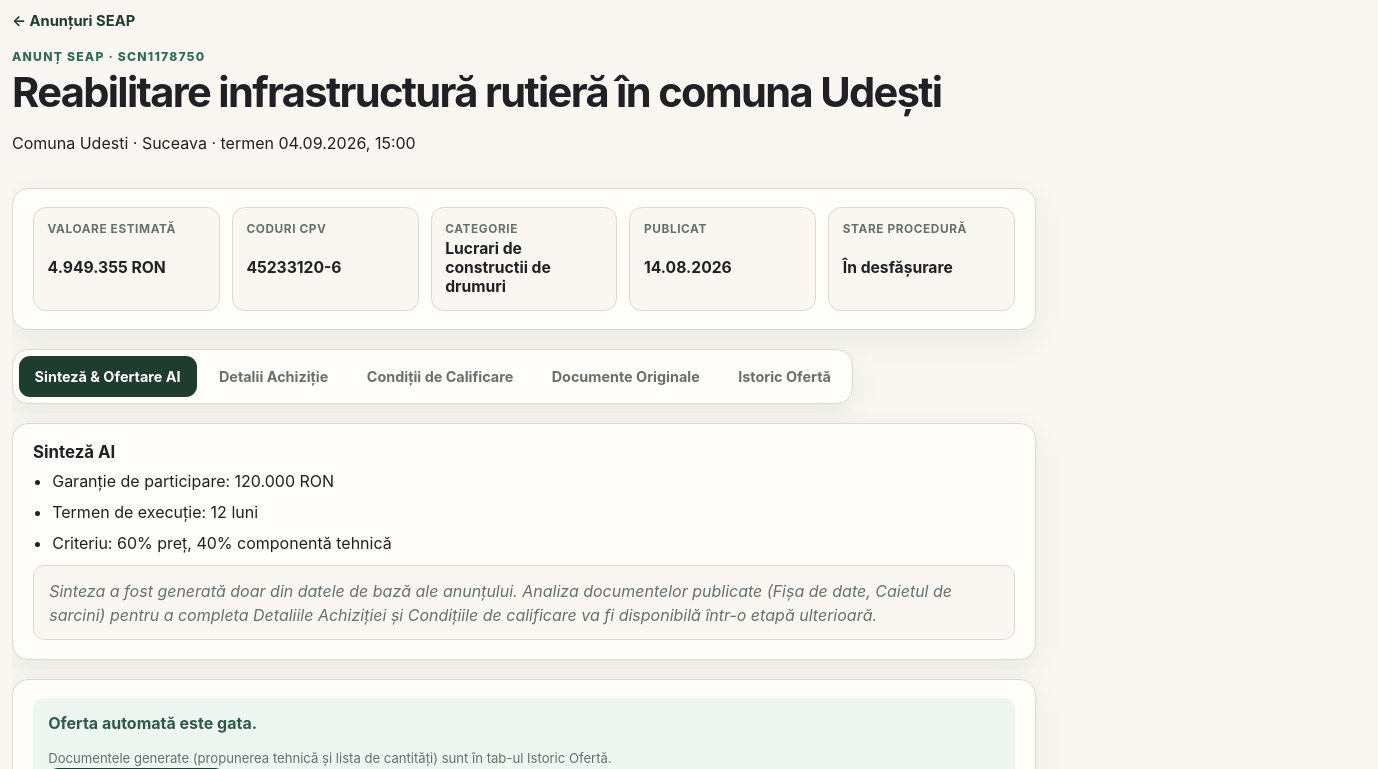
SeapTenderDetailComponent › shows the Istoric tab with the generated offer documents for a tender with a generated bid
Click the tab "Istoric Ofertă" at (785, 376), box 722,356 -> 847,397
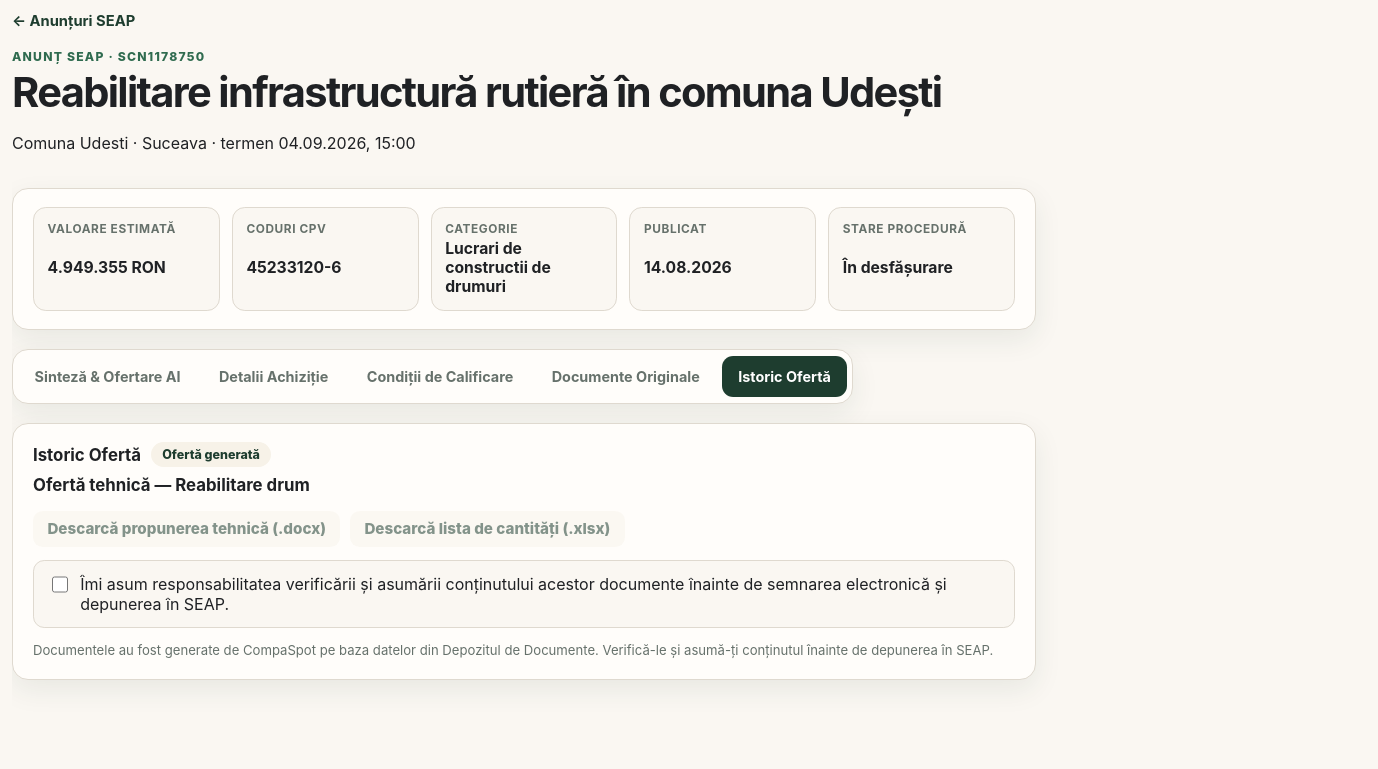
Expected: the text "Ofertă tehnică — Reabilitare drum" is shown, 33,476 -> 310,496
Expected: the text "Descarcă propunerea tehnică (.docx)" is shown, 33,511 -> 340,547
Expected: the text "Descarcă lista de cantități (.xlsx)" is shown, 350,511 -> 625,547
